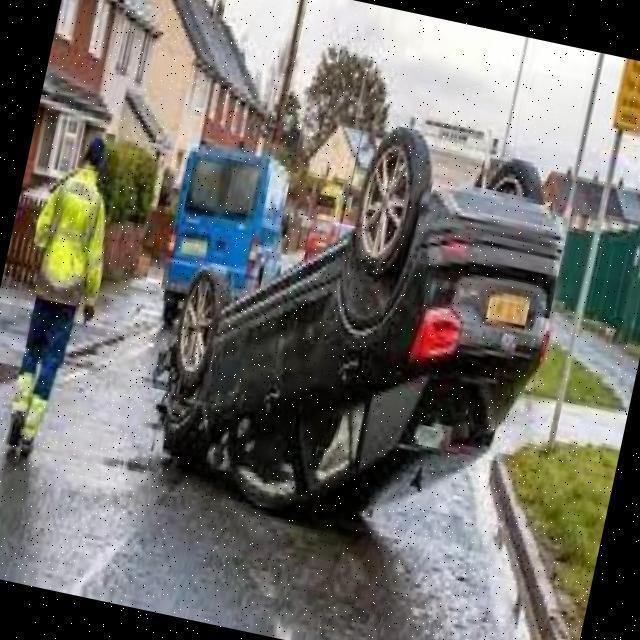accident: (127, 86, 585, 562)
